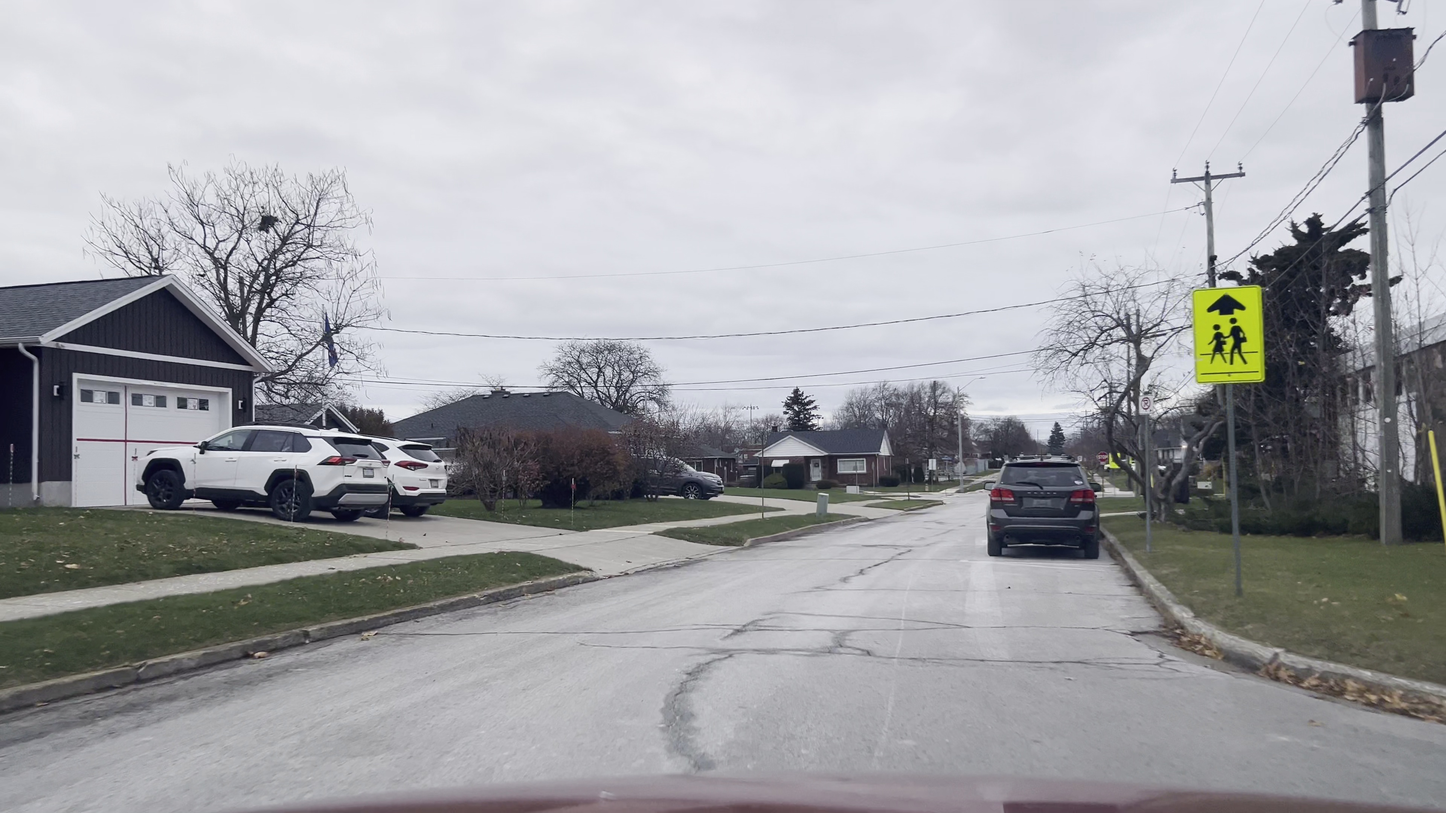cracks: (675, 638, 719, 765), (726, 613, 864, 652), (1026, 650, 1175, 677), (843, 547, 900, 586)
